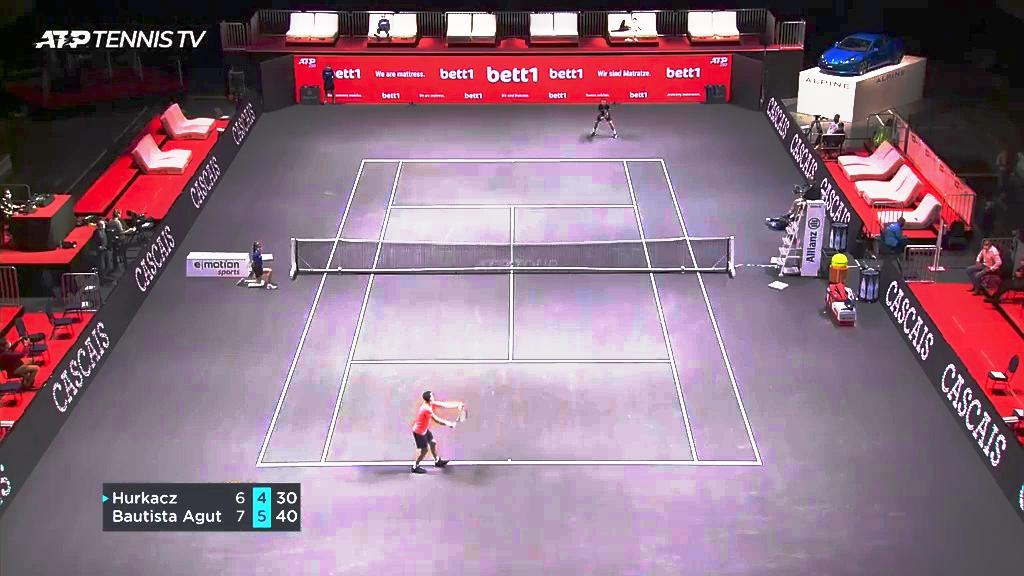tennis-court: (257, 159, 761, 466)
